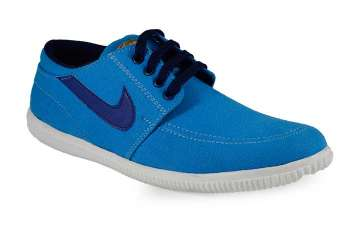Footwear: (21, 22, 338, 196)
